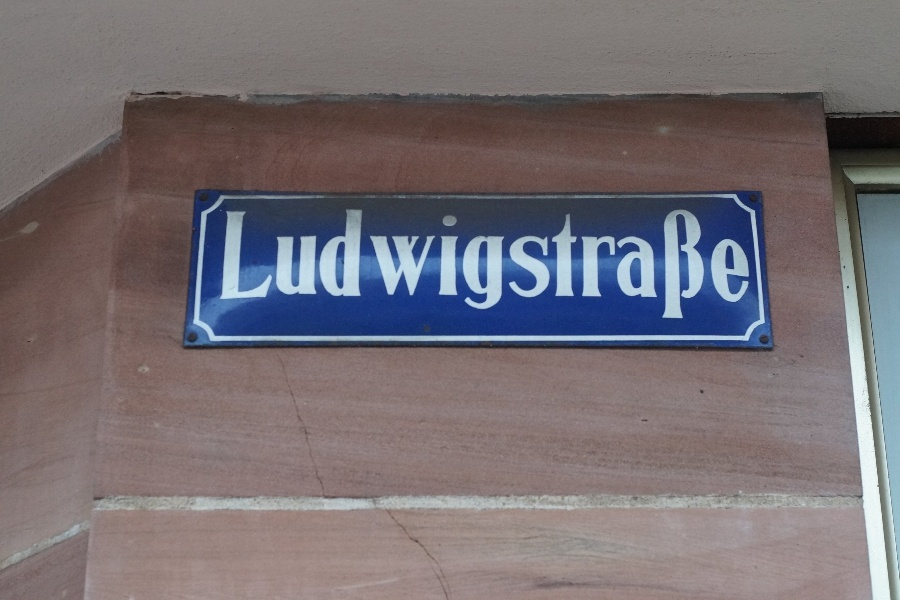text: (737, 206, 753, 324), (225, 206, 240, 324), (241, 206, 256, 324), (257, 206, 272, 324), (273, 206, 288, 324), (289, 206, 304, 324), (305, 206, 320, 324), (321, 206, 336, 324), (337, 206, 352, 324), (353, 206, 368, 324), (369, 206, 384, 324), (385, 206, 400, 324), (401, 206, 416, 324), (417, 206, 432, 324), (433, 206, 448, 324), (449, 206, 464, 324), (465, 206, 480, 324), (481, 206, 496, 324), (497, 206, 512, 324), (513, 206, 528, 324), (529, 206, 544, 324), (545, 206, 560, 324), (561, 206, 576, 324), (577, 206, 592, 324), (593, 206, 608, 324), (609, 206, 624, 324), (625, 206, 640, 324), (641, 206, 656, 324), (657, 206, 672, 324), (673, 206, 688, 324), (689, 206, 704, 324), (705, 206, 720, 324), (721, 206, 736, 324)
